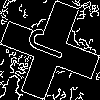J: (25, 25, 77, 65)
